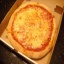pizza: (8, 2, 53, 60)
